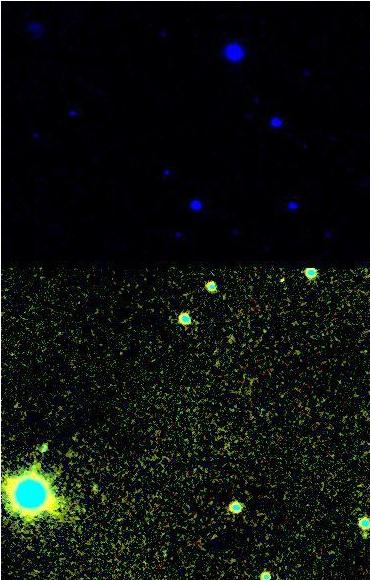star: (354, 523, 370, 553)
